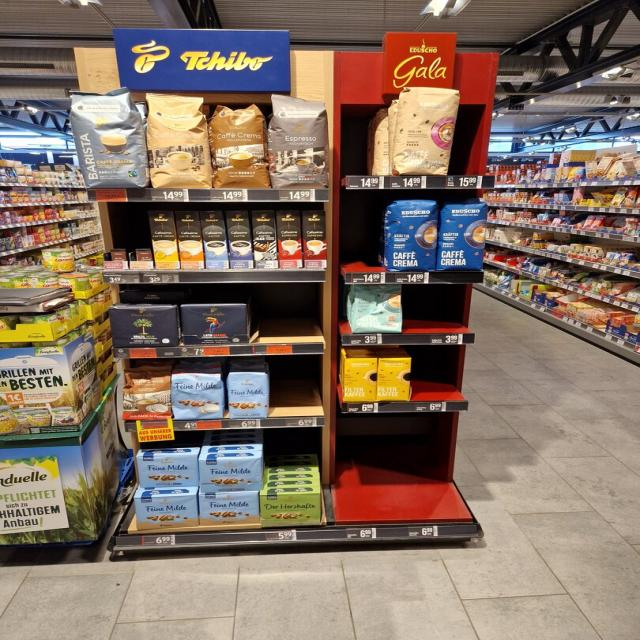BM Gemahlen: (106, 306, 180, 348)
Barista CC: (64, 86, 149, 190)
Barista Espresso: (267, 91, 328, 188)
CC Mild: (145, 88, 211, 188)
CC Vollmundig: (121, 368, 172, 420)
CC Vollmundig 36 Pads: (207, 101, 270, 190)
Empty Shelf: (256, 289, 326, 343), (272, 358, 324, 417)
FM 36 Pads: (172, 369, 225, 420)
FM Bohne: (227, 370, 269, 419)
FM Gemahlen: (132, 494, 198, 530), (198, 458, 262, 492), (135, 454, 198, 488), (199, 493, 260, 526)
Herzhatfe Mundig: (260, 494, 321, 527)
LG Gemahlen: (180, 303, 249, 345)
Simo CCMild bigpack: (148, 211, 180, 268)
Simo CCVollmundig bigpack: (176, 211, 205, 268)
Simo Es Brazil: (277, 210, 302, 269)
Simo Es Caramel: (304, 210, 326, 268)
Simo Es Elegant: (253, 211, 278, 268)
Simo Es Kraft: (225, 211, 253, 268)
Simo Es Vanilla: (201, 210, 229, 268)
